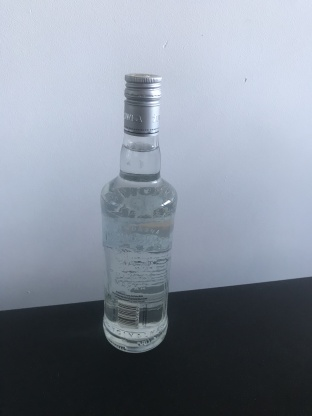nakretka: (122, 72, 163, 138)
